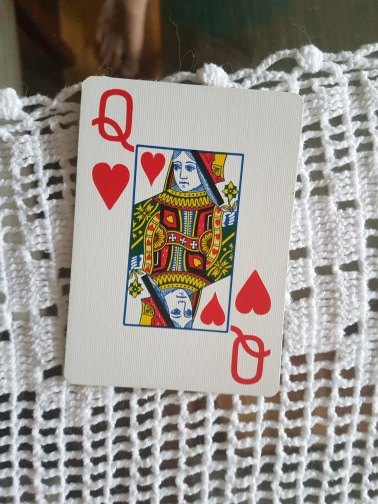queen: (62, 75, 306, 396)
